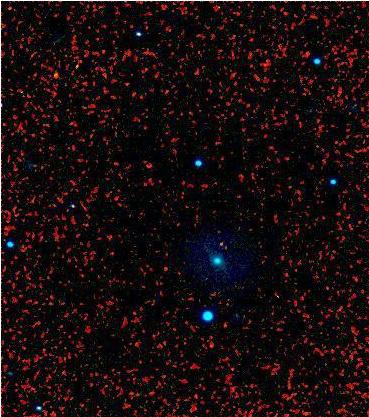star: (207, 230, 237, 260)
